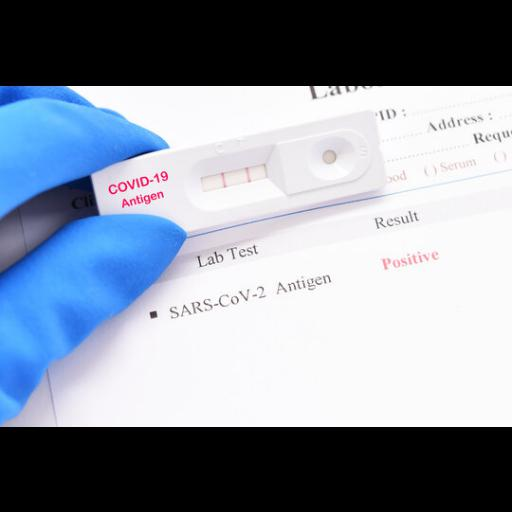Pos: (92, 109, 388, 249)
